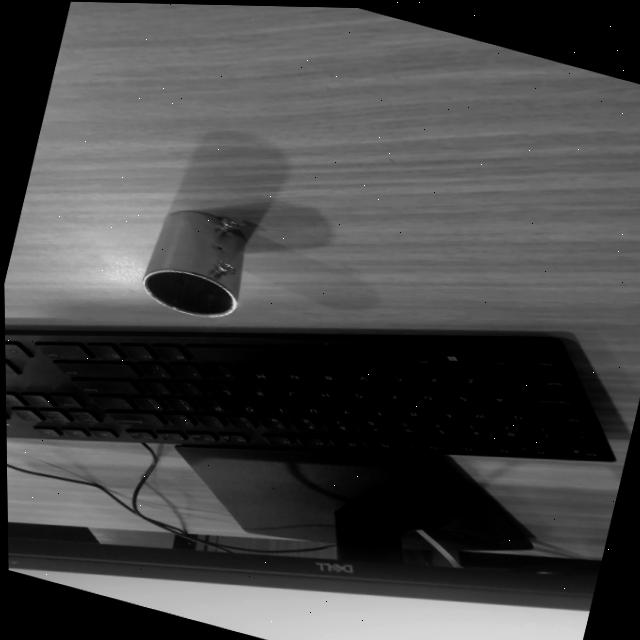Co_Lon: (137, 201, 258, 325)
